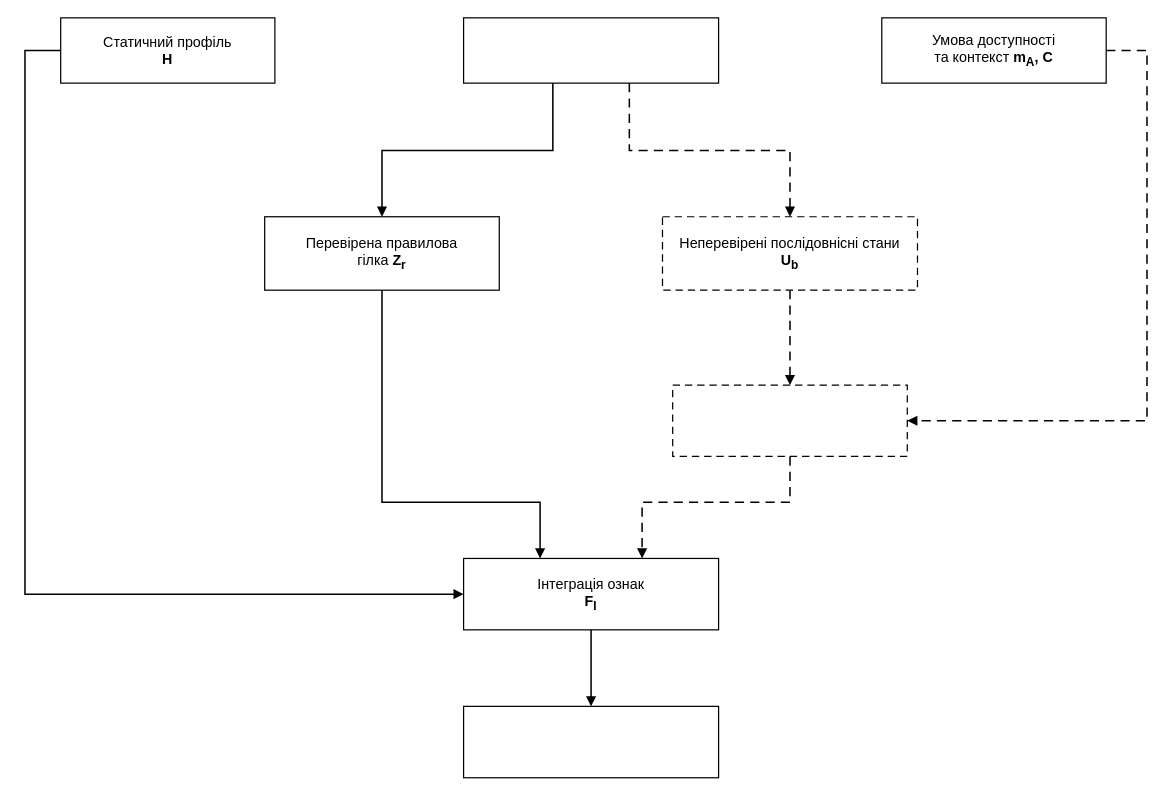
This 1174x797 diagram has some shape labels left out. The shapes that lost their labels are listed below. From the top down, each one's centre as x and y in pixels, then its label:
At [590,50]: "Причинно пов’язані події X b".
At [789,420]: "Опційна перехресна увага A".
At [590,741]: "Інтегроване представлення Z".
